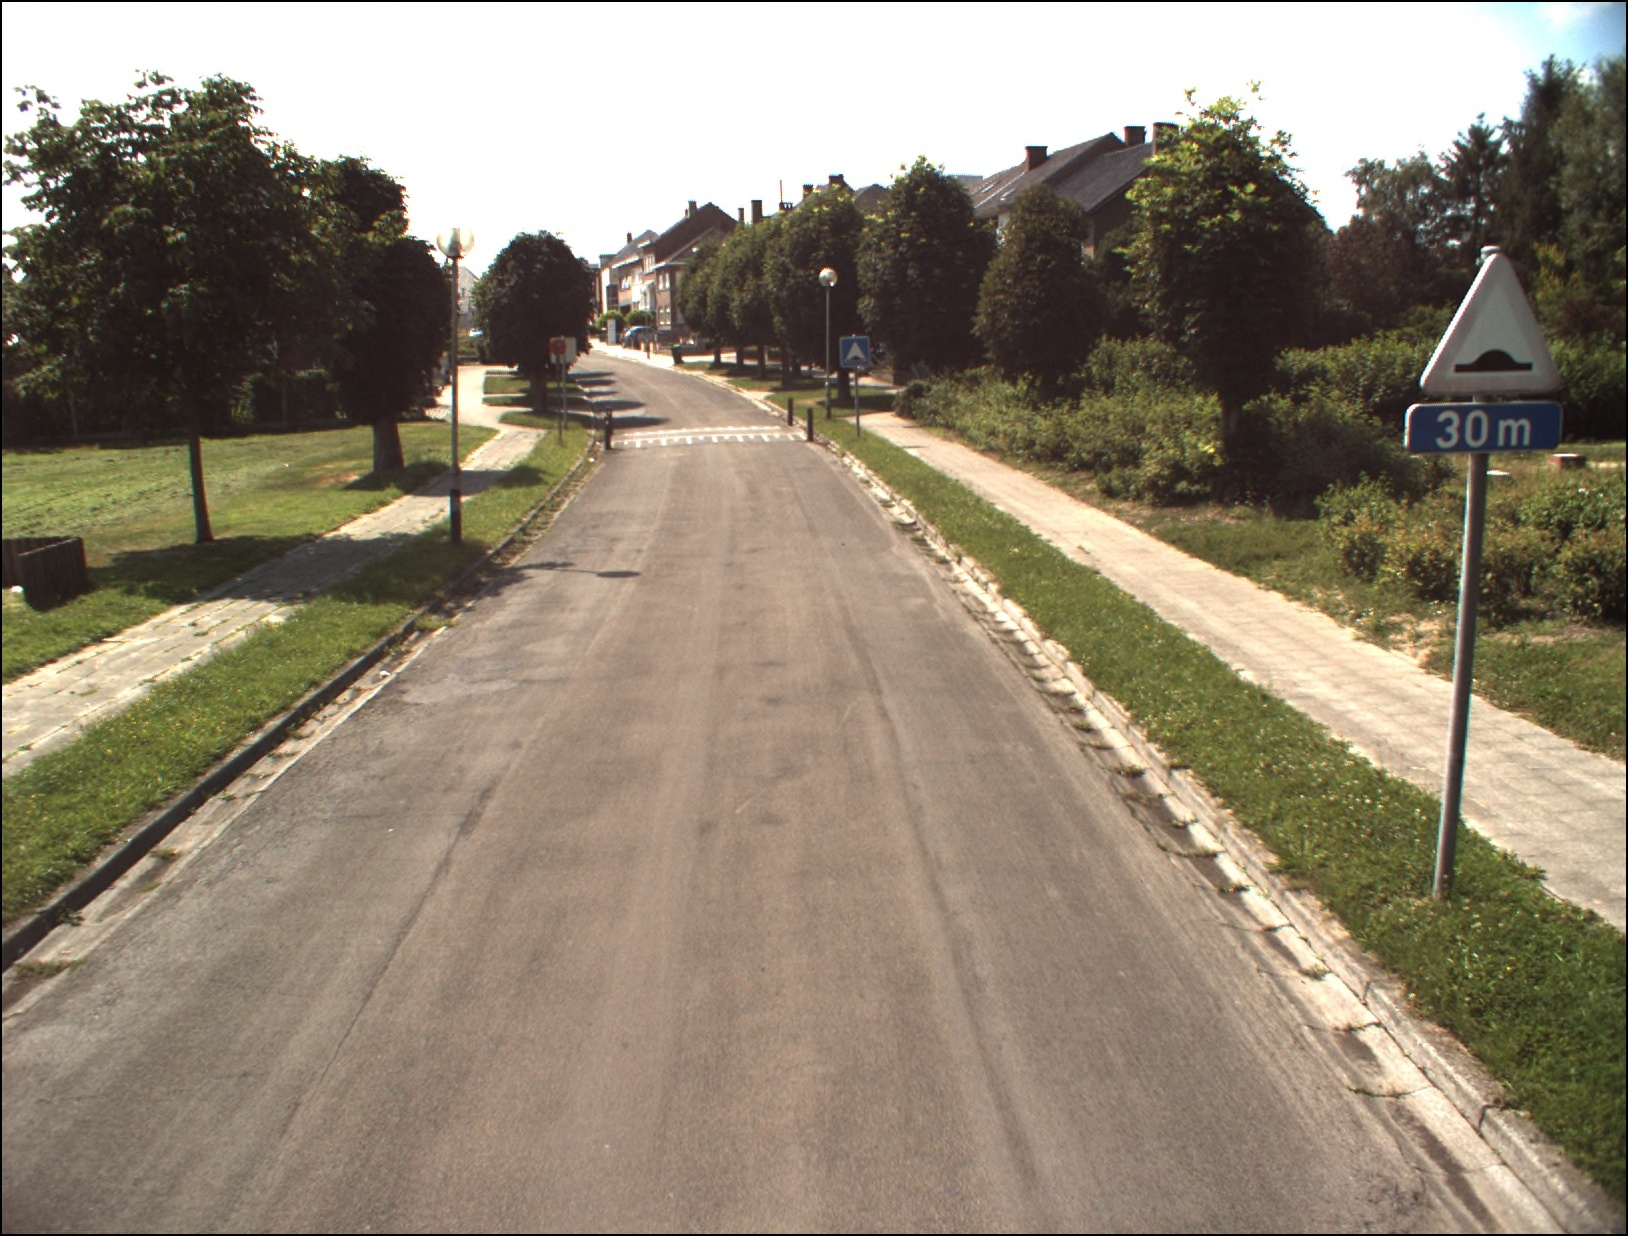speedbump: (1425, 243, 1560, 396)
